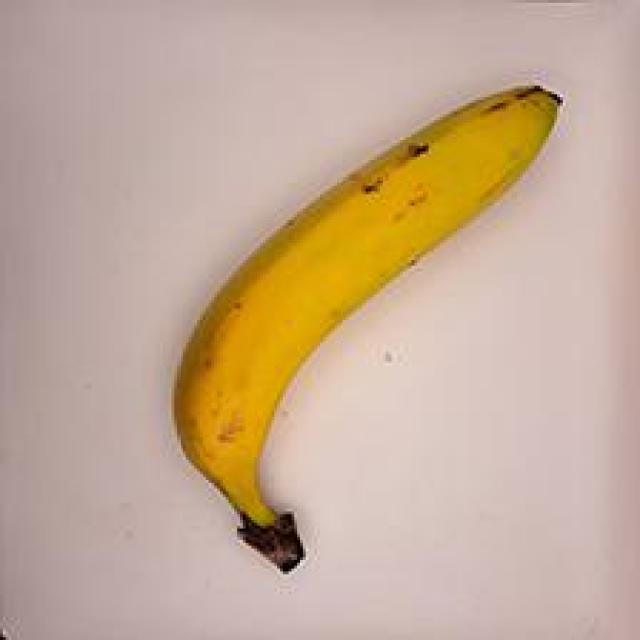ripe: (140, 42, 566, 590)
